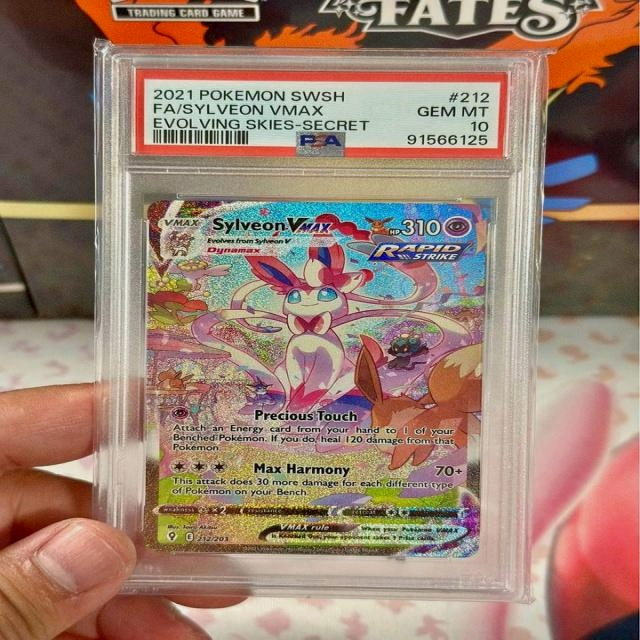card: (144, 200, 489, 558)
